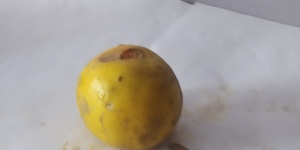BAD: (78, 45, 187, 150)
